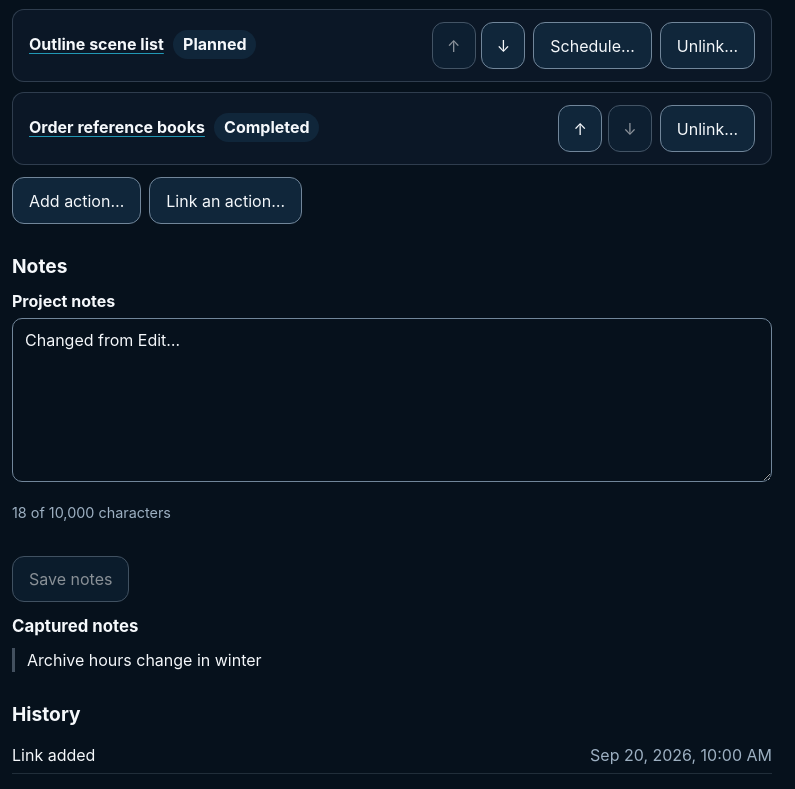
Project detail page › keeps a notes draft while editing and shows committed notes otherwise
(page scrolled)
Type " and a draft" into the text box labelled "Project notes".
click(392, 400); type(" and a draft")  # box [12,318,772,482]
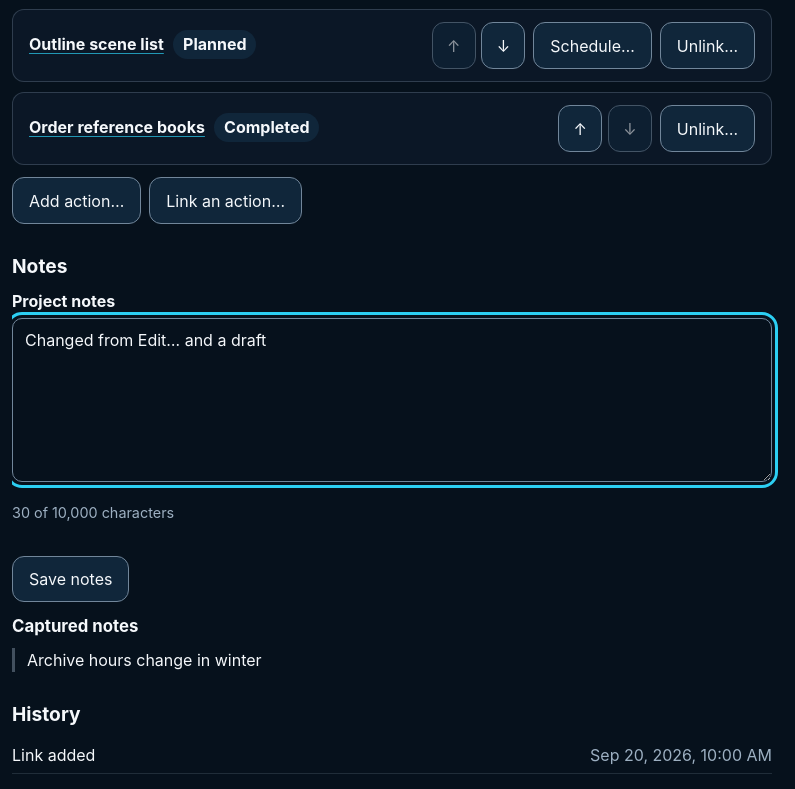
Expected: the text box labelled "Project notes" holds "Changed from Edit… and a draft", [12,318,772,482]
